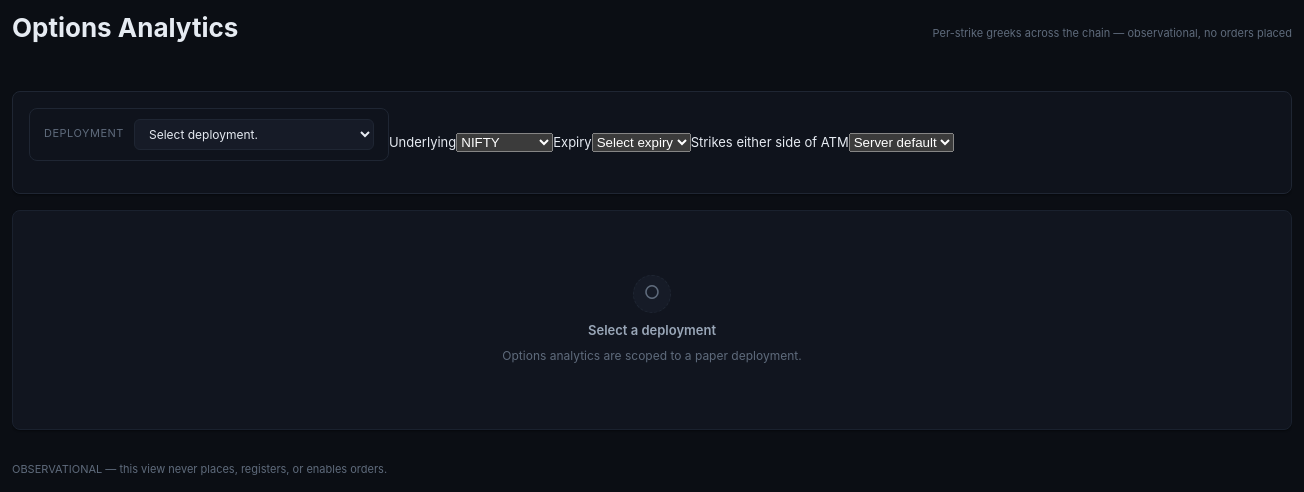
Test case: PaperOptionsAnalytics — states › surfaces an API error with a retry affordance
Select "dep-1 — NSE:SBIN · 1d [active]" in the dropdown named "Select deployment" at {"x": 254, "y": 134}, box [134,118,374,150]
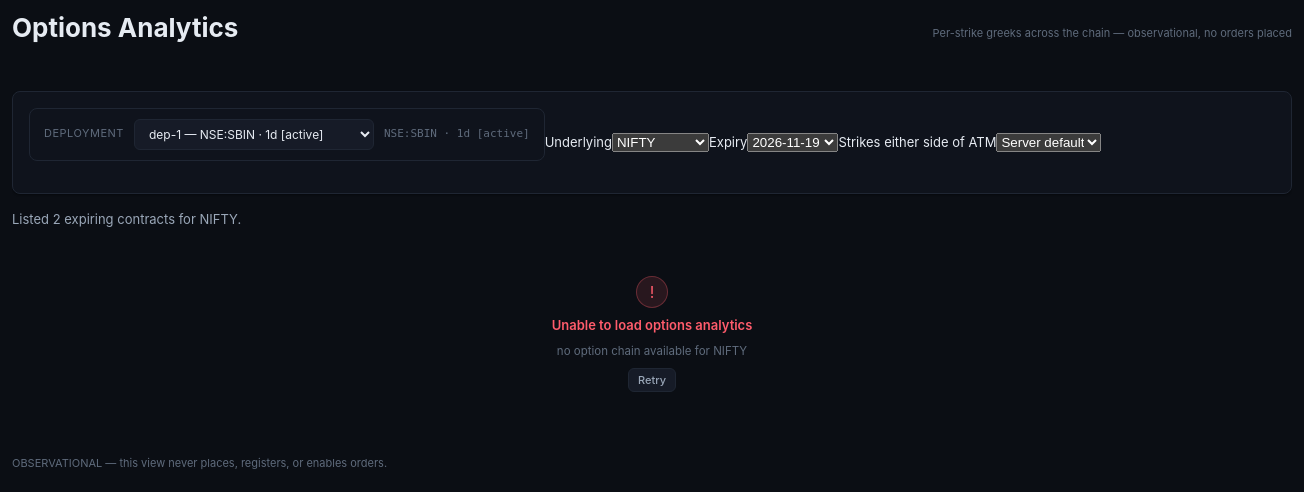
Check: the text "Unable to load options analytics" is shown, box [552,316,752,335]
Check: the text "no option chain available for NIFTY" is shown, box [557,343,747,360]
Check: the button "Retry" is shown, box [628,368,676,392]
